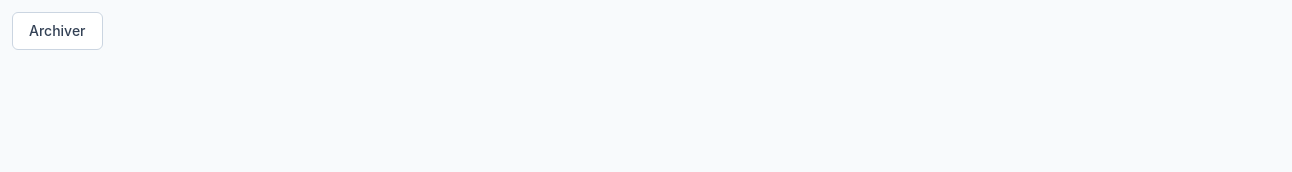
ConfirmAction › second clic : lance l'action une seule fois et revient à l'état de départ
Click the button "Archiver" at (57, 31), box [12,12,102,50]
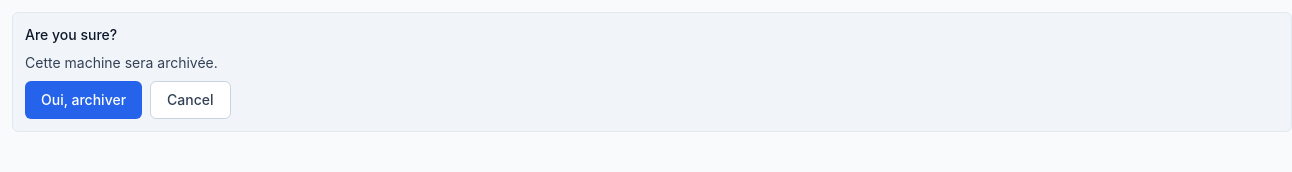
Click the button "Oui, archiver" at (84, 100), box [25,81,142,119]
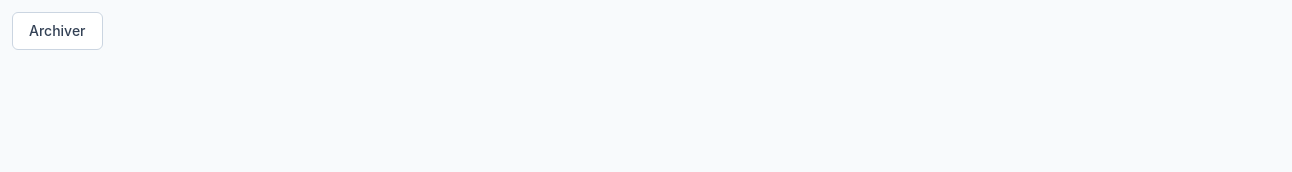
Expected: the button "Archiver" is shown, [12,12,102,50]
Expected: the text "Cette machine sera archivée." is gone
